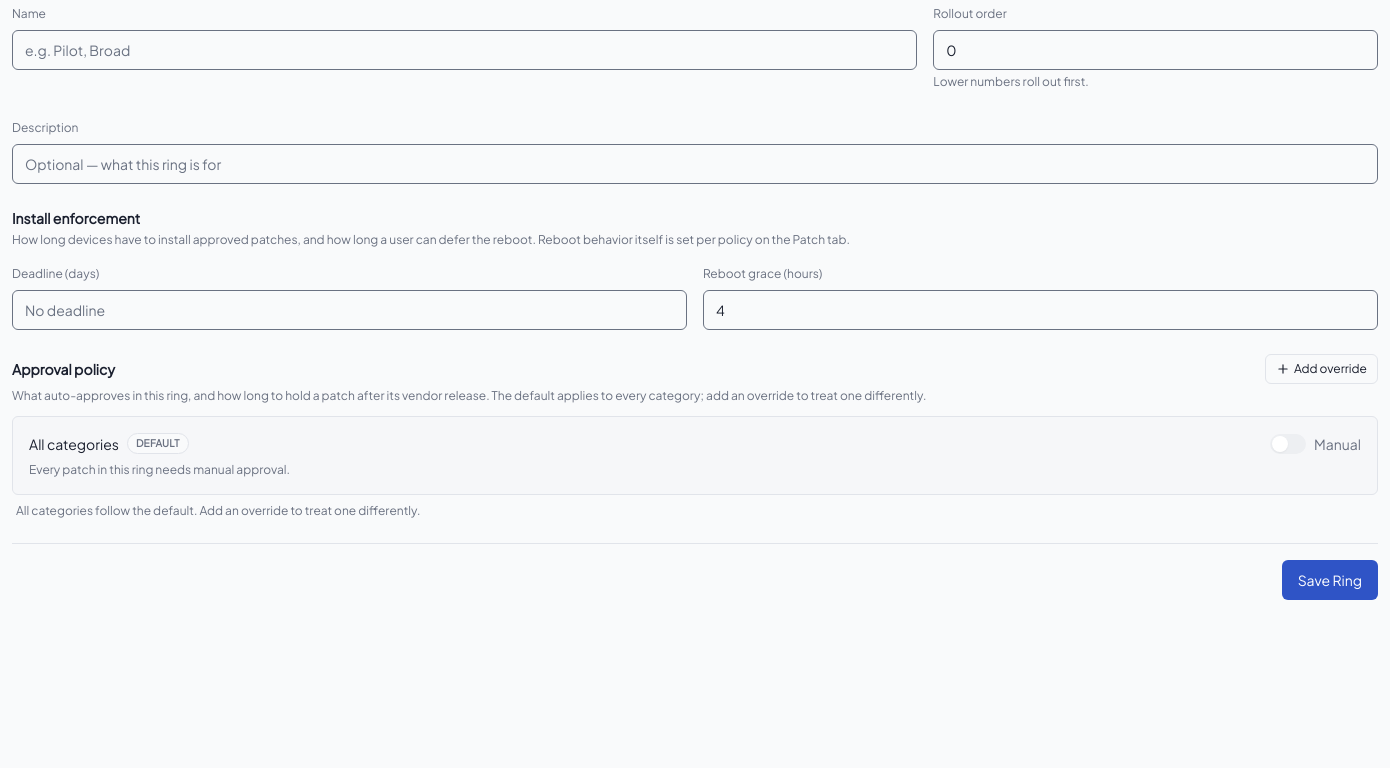
UpdateRingForm — ring auto-approve (#1317) › hides severity/deferral controls until auto-approve is enabled
The image size is (1390, 768).
Expected: the element with test id "ring-auto-approve-section" is shown, [12,416,1378,495]
Click the checkbox with test id "ring-auto-approve-enabled": (1316, 444) [1270,434,1361,454]
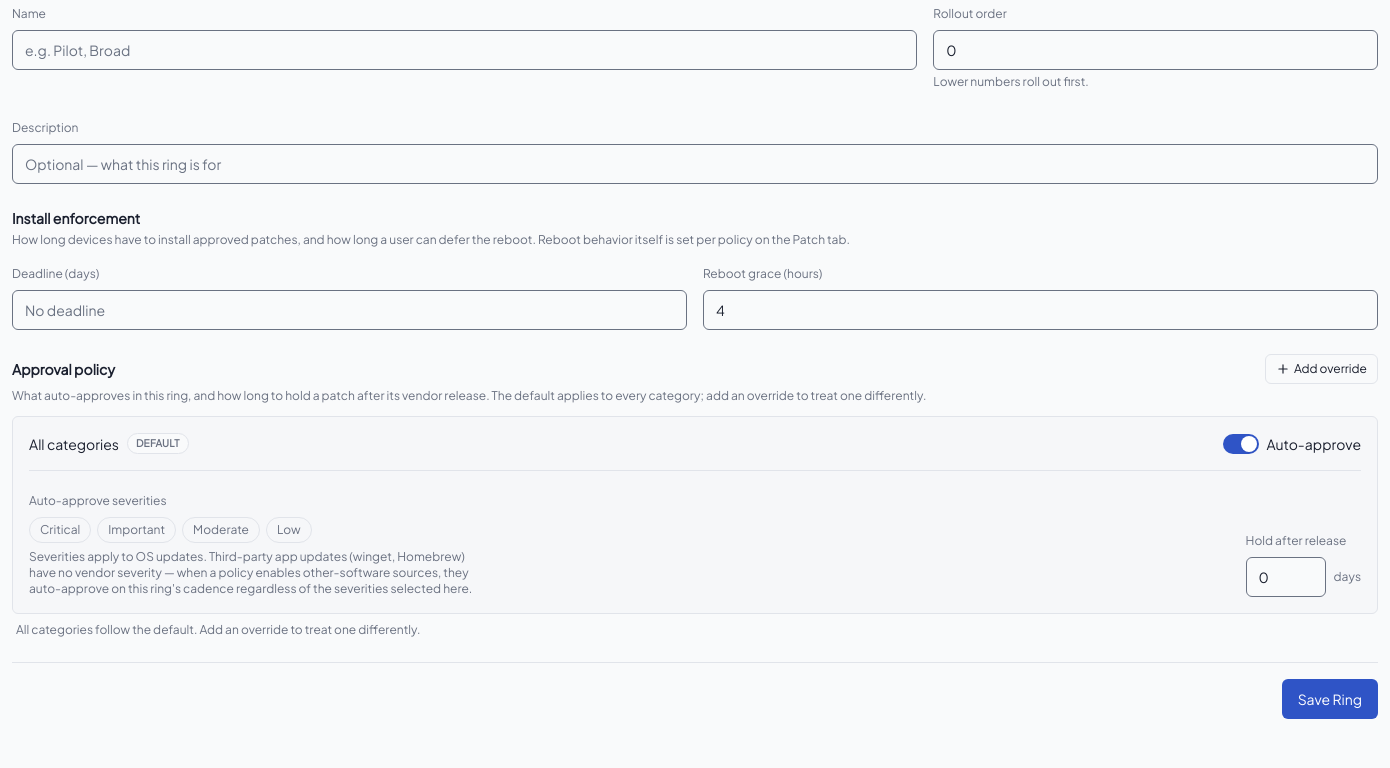
Expected: the number field with test id "ring-auto-approve-deferral" is shown, [1246,557,1326,597]
Expected: the button with test id "ring-auto-approve-severity-critical" is shown, [29,517,91,543]
